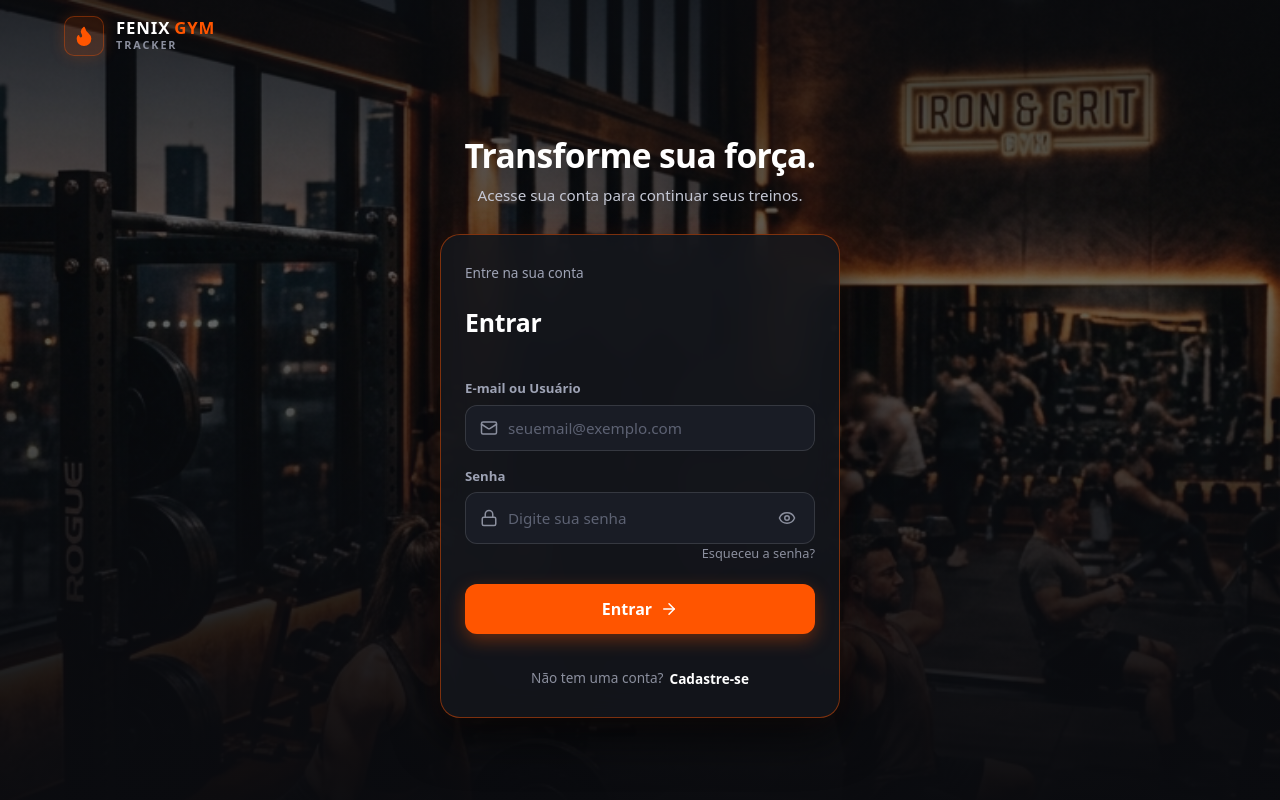
LoginScreen Component › permite alternar para modo de cadastro ao clicar em Cadastre-se
What coordinates should you click on to do the following:
click the button "Cadastre-se"
I would click on:
 (709, 679)
Its box is [670,669,749,688].
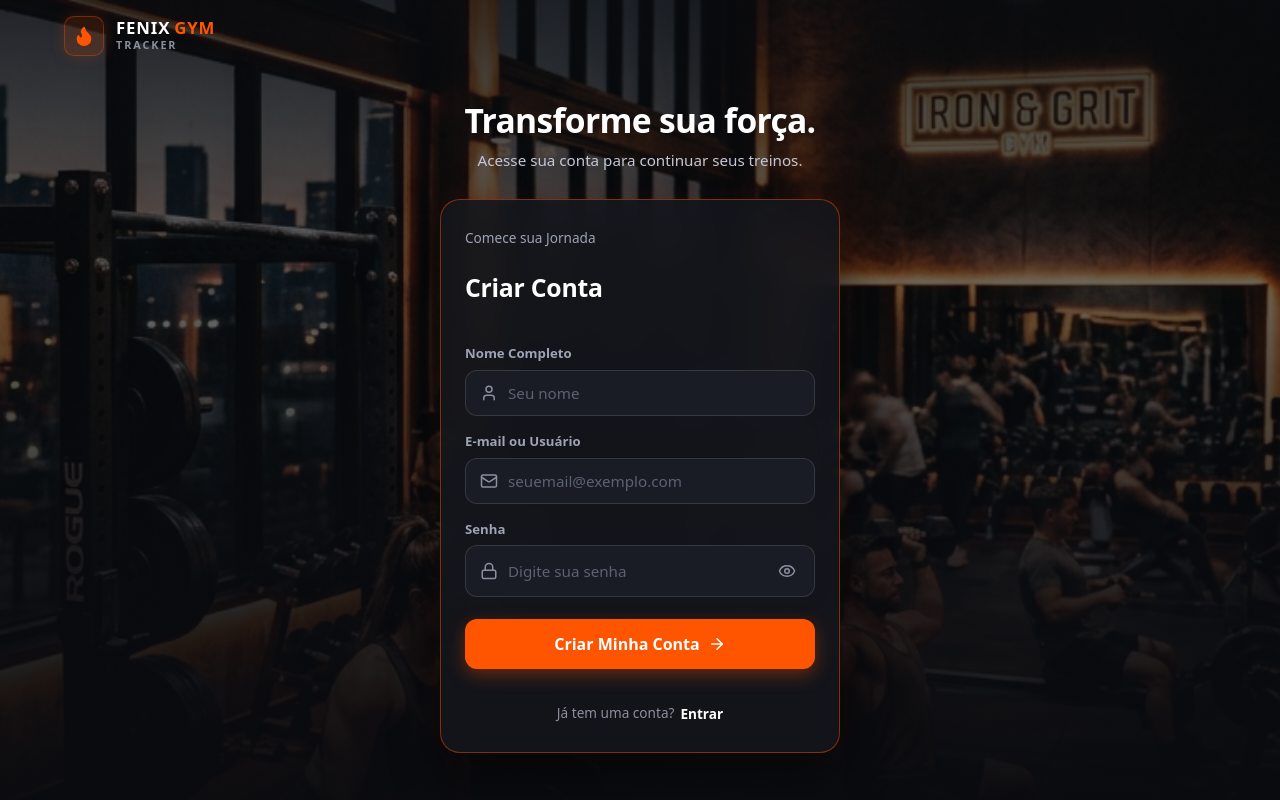
Now the field labelled "Nome Completo" is shown, box [508,383,800,403]
Now the button "Criar Minha Conta" is shown, box [465,619,815,669]
